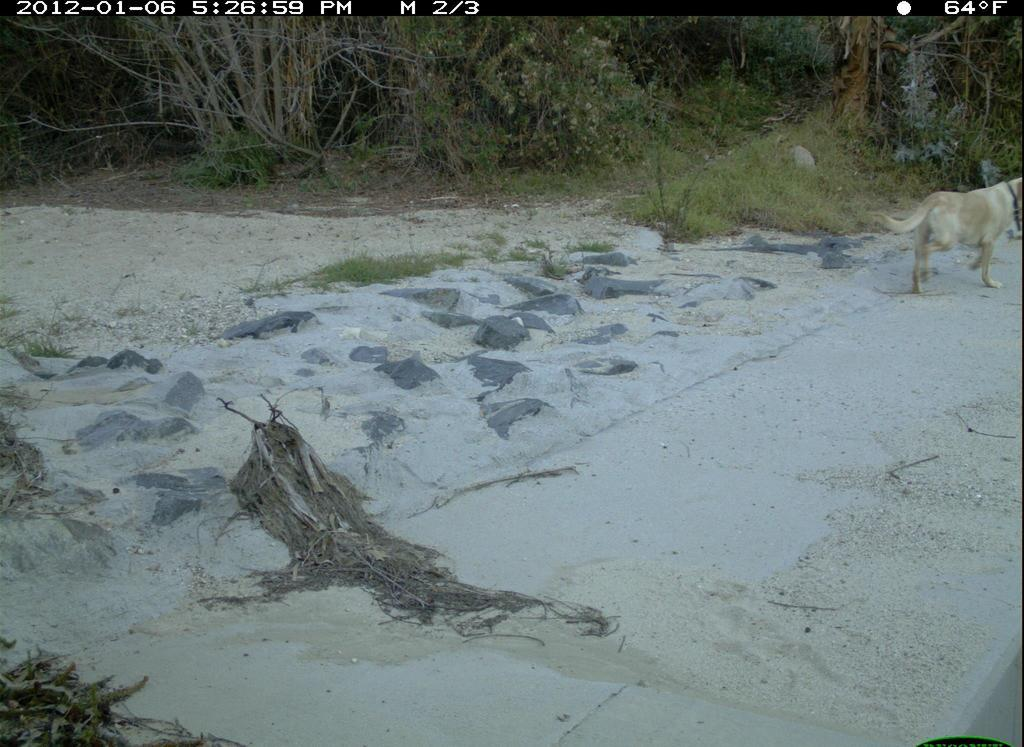dog: (872, 166, 1023, 299)
